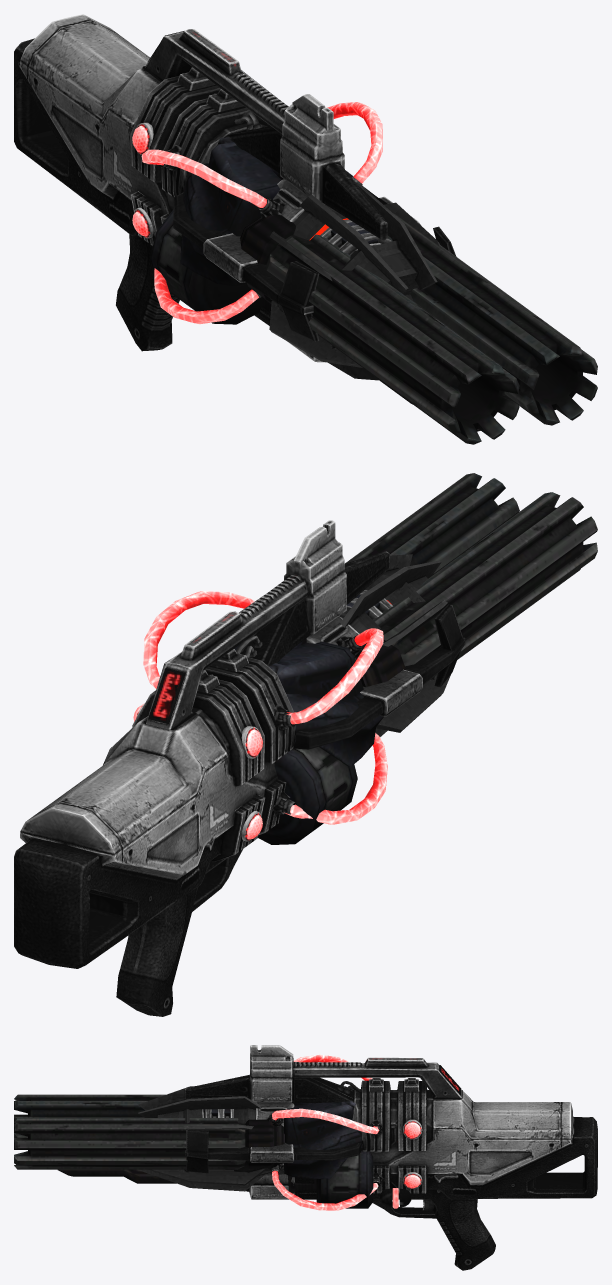
Rendered from gun.glb.
The picture shows the model from 3 angles, top to bottom: view 1: azimuth 30°, elevation 25°; view 2: azimuth 150°, elevation 25°; view 3: azimuth 270°, elevation 25°; orthographic projection. The views are drawn at different scales.
Parts seen in each view (by area): view 1: Object_4, Object_5, Object_2, Object_3; view 2: Object_4, Object_5, Object_2, Object_3; view 3: Object_4, Object_5, Object_2, Object_3.
Part boxes in pixels (<box>): Object_4: <box>14,14,456,362</box>; Object_5: <box>150,137,597,444</box>; Object_2: <box>269,183,439,380</box>; Object_3: <box>130,31,325,314</box>; Object_4: <box>14,520,465,1016</box>; Object_5: <box>234,473,597,844</box>; Object_2: <box>339,554,450,736</box>; Object_3: <box>140,524,450,854</box>; Object_4: <box>184,1045,597,1270</box>; Object_5: <box>14,1086,373,1208</box>; Object_2: <box>138,1086,284,1191</box>; Object_3: <box>185,1056,471,1193</box>.
Size of the model in its own units: 1.29 by 2.15 by 5.14.
Materials: 3 (3 with a texture image).
